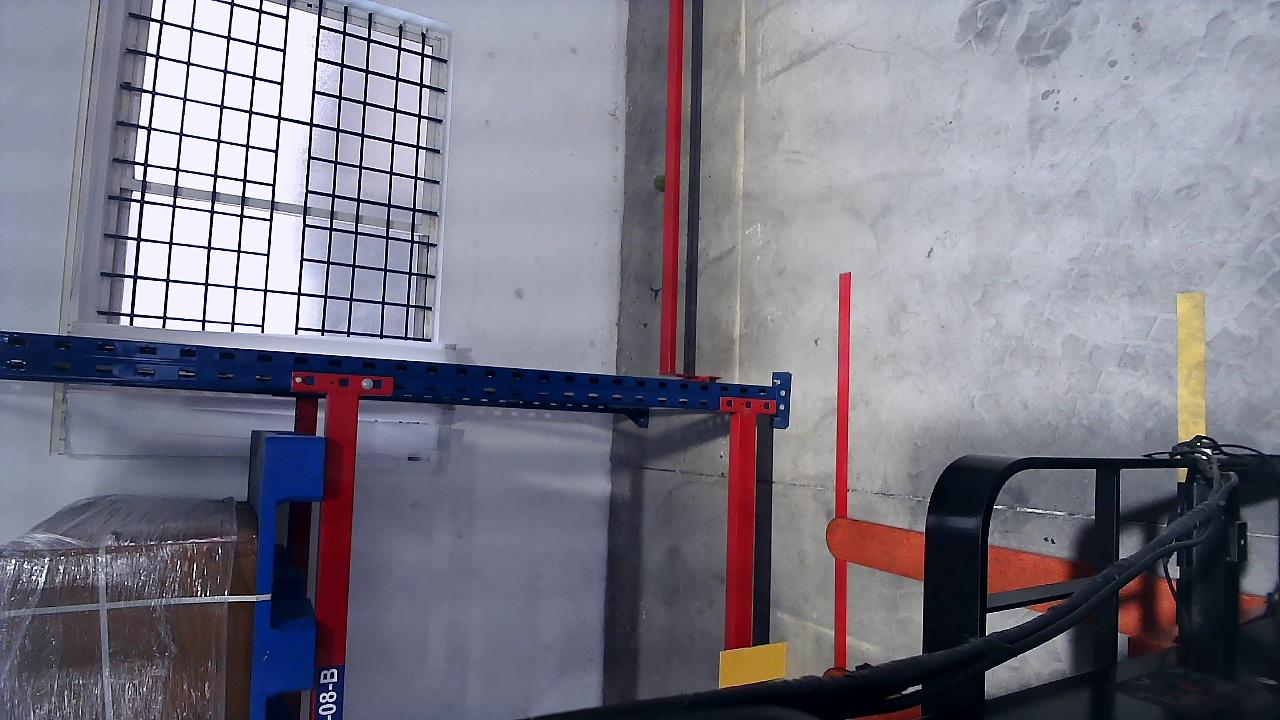h_rack: (731, 411, 756, 686), (323, 393, 344, 719)
orange_strip: (718, 641, 788, 687)
red_line: (836, 272, 847, 669)
small_pallet: (257, 437, 324, 719)
yellow_line: (1175, 292, 1207, 441)
